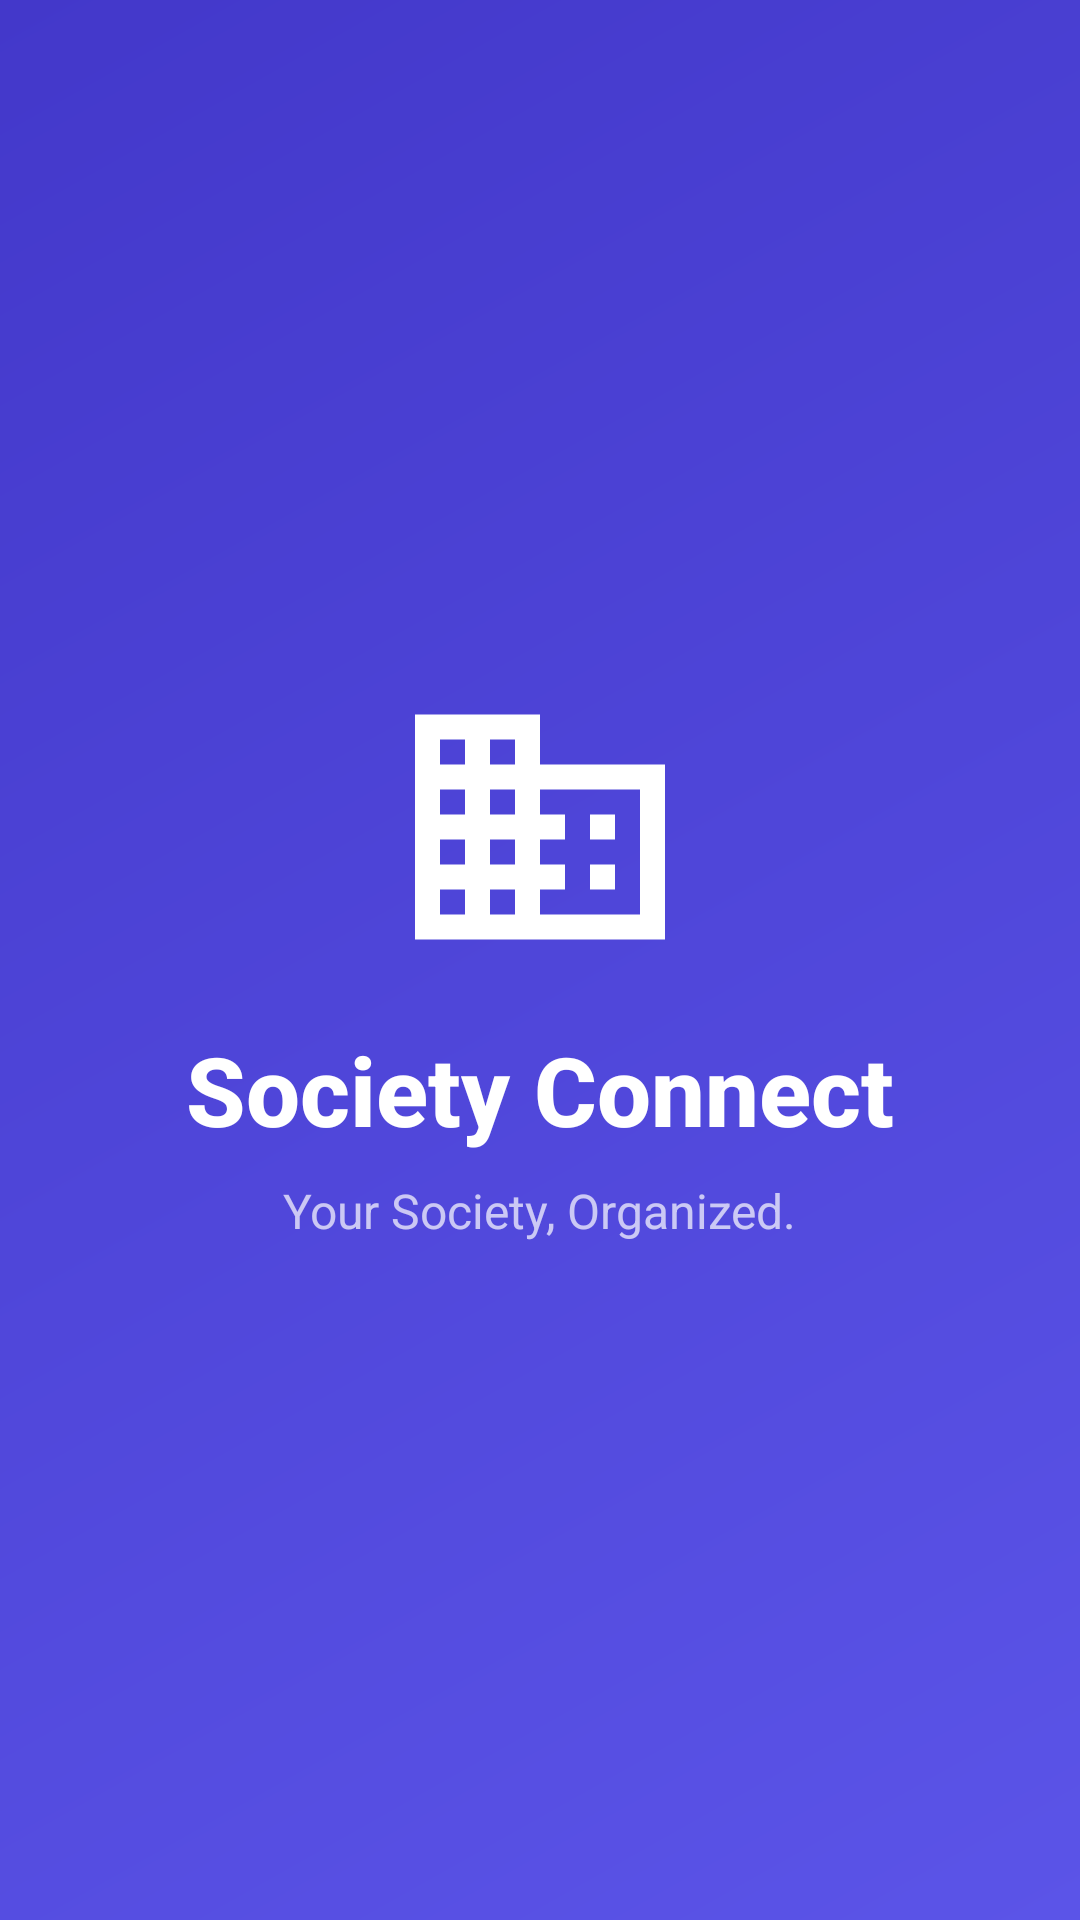

Screen size 1080*1920. Icon name, then its center in pixels as (x,y):
building: (540,827)
